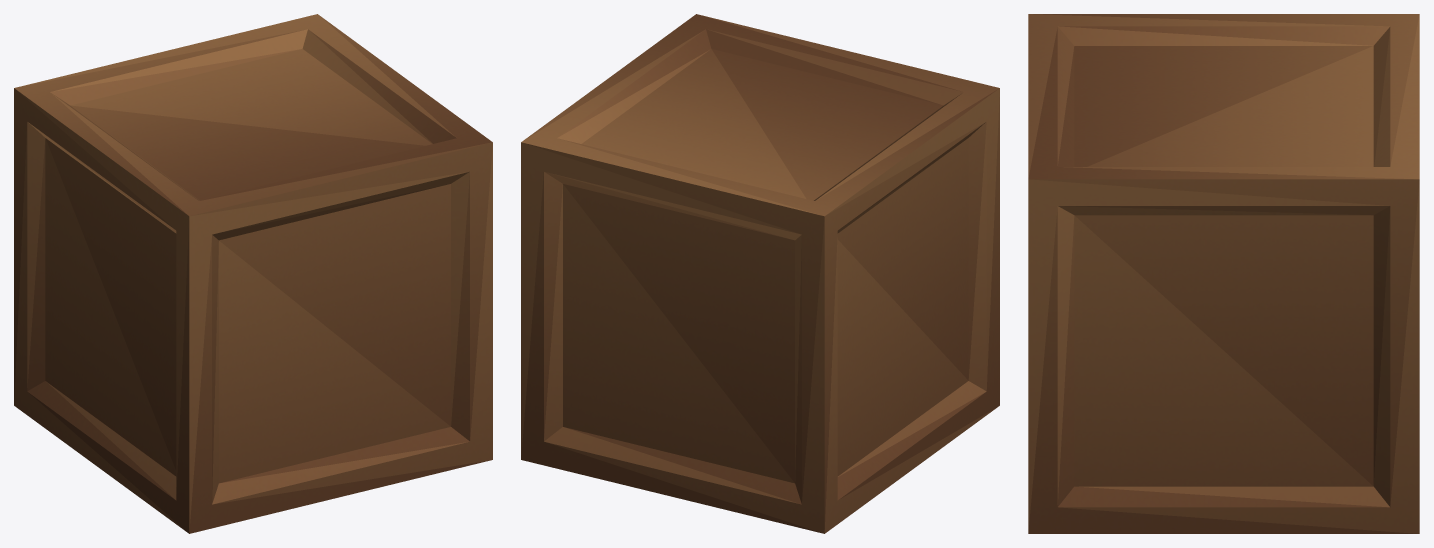
Rendered from Crate.fbx.
3 views of the same model, side by side, from view 1: azimuth 30°, elevation 25°; view 2: azimuth 150°, elevation 25°; view 3: azimuth 270°, elevation 25° (orthographic). The views are drawn at different scales.
Visible parts, largest first — view 1: pCube25; view 2: pCube25; view 3: pCube25.
Boxes of the visible parts, left/top/right/bottom form: pCube25: left=14, top=14, right=492, bottom=533; pCube25: left=521, top=14, right=999, bottom=533; pCube25: left=1028, top=14, right=1419, bottom=533.
Size of the model in its own units: 85 by 85 by 85.
